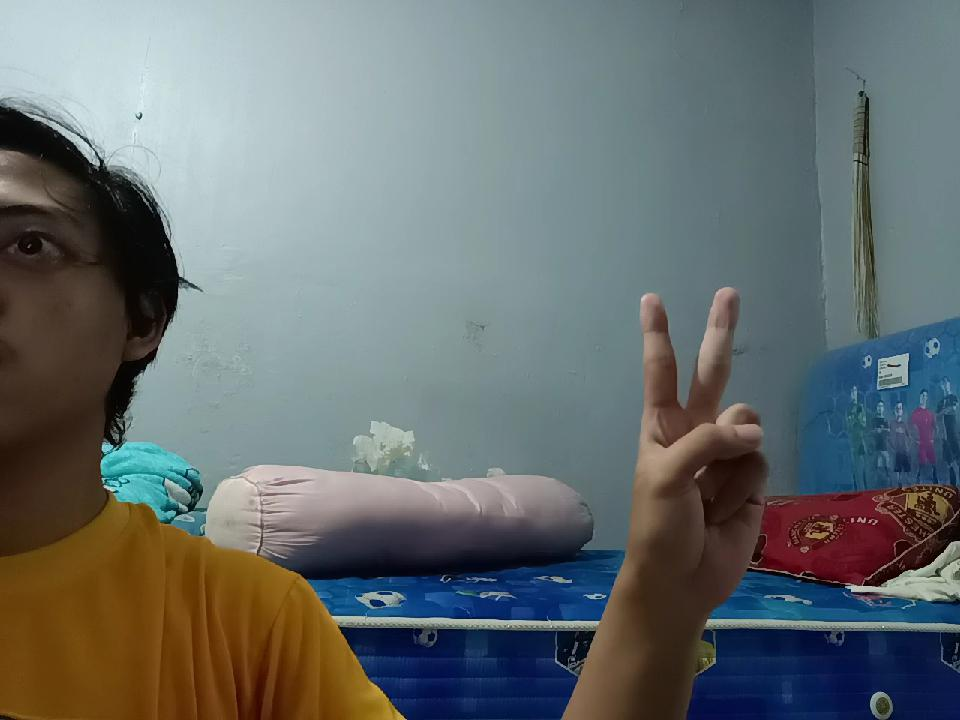scissors: (606, 284, 782, 574)
